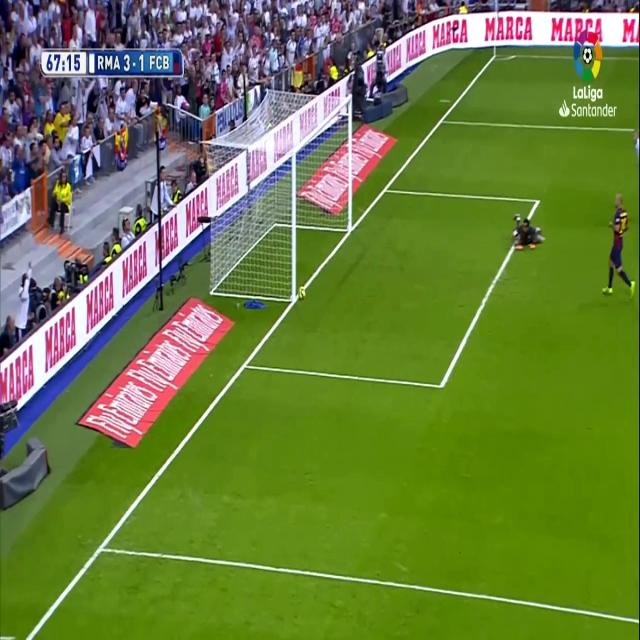bigarea_bottom_inner: (434, 366, 448, 403)
bottom_arc_area_intersection: (436, 108, 446, 130)
corner: (490, 50, 500, 63)
smallarea_bottom_outter: (238, 348, 251, 379)
